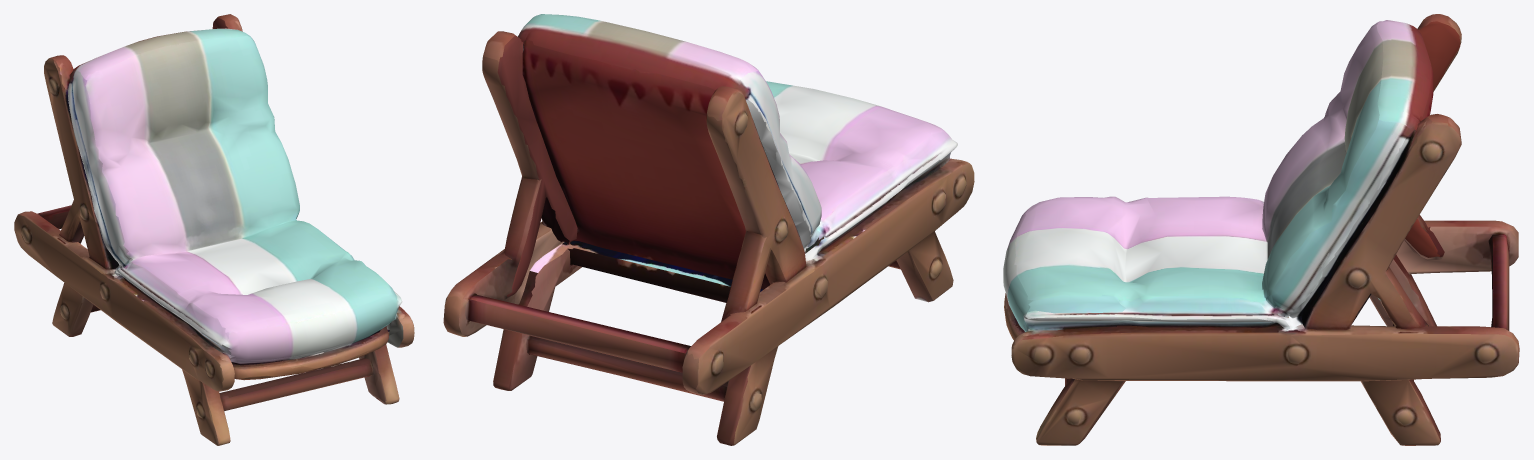
Rendered from chair_v2.glb.
3 views of the same model, side by side, from view 1: azimuth 30°, elevation 25°; view 2: azimuth 150°, elevation 25°; view 3: azimuth 270°, elevation 25° (orthographic). The views are drawn at different scales.
Parts seen in each view (by area): view 1: tmpdzrlv1uv.ply; view 2: tmpdzrlv1uv.ply; view 3: tmpdzrlv1uv.ply.
Part boxes in pixels (left/top/right/bottom): tmpdzrlv1uv.ply: left=14, top=14, right=414, bottom=445; tmpdzrlv1uv.ply: left=443, top=14, right=974, bottom=445; tmpdzrlv1uv.ply: left=1003, top=14, right=1519, bottom=445.
Size of the model in its own units: 0.5342 by 0.7105 by 0.9869.
Materials: 1 (1 with a texture image).
